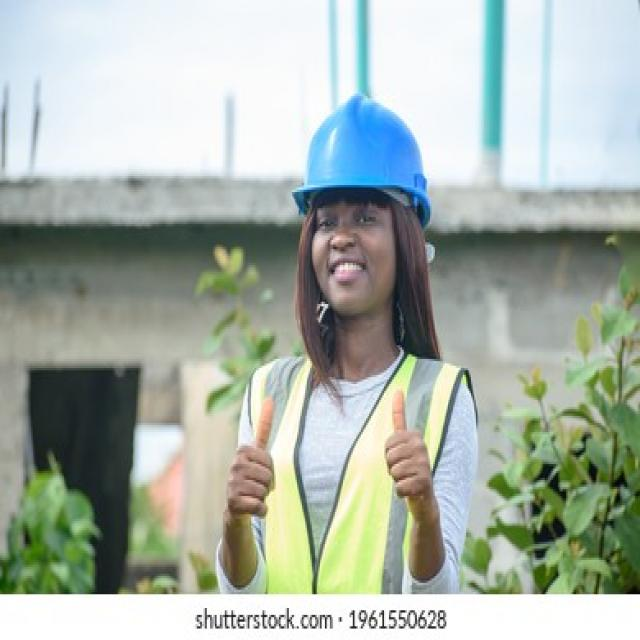Reflective-Jacket: (238, 343, 476, 594)
Safety-Helmet: (286, 84, 438, 231)
